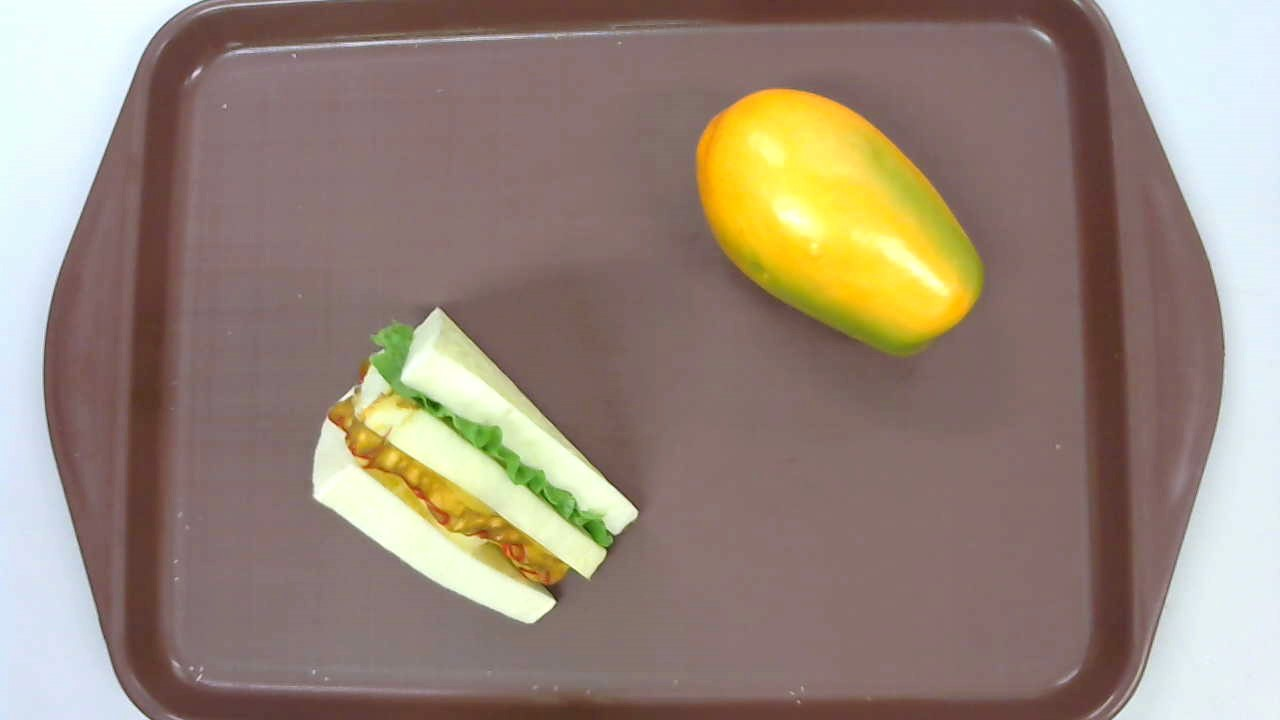papya: (695, 87, 983, 356)
sandwich: (311, 306, 640, 624)
